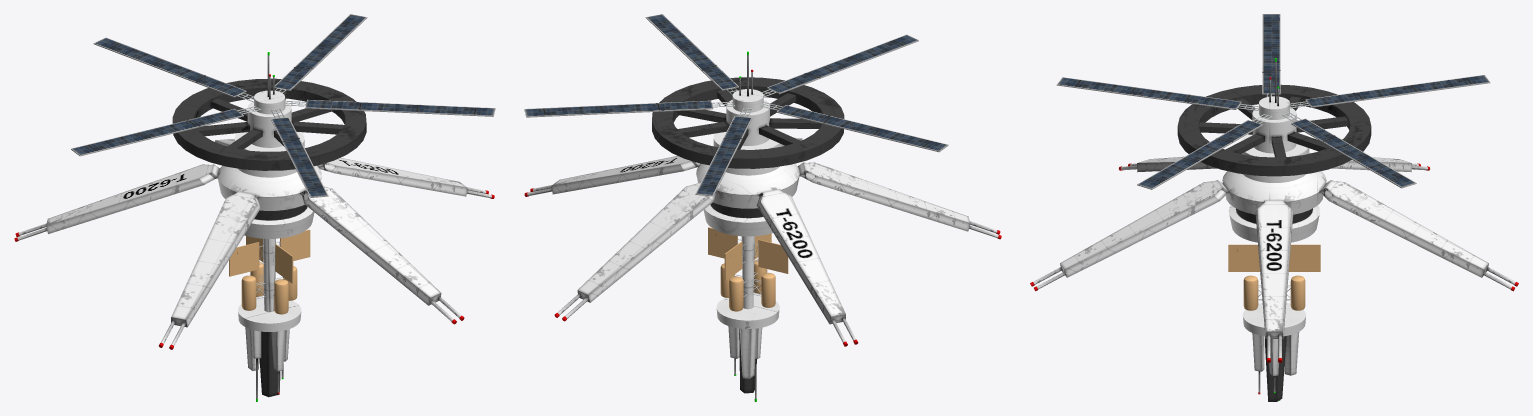
File: Estacion.obj
3 renders of one model, left to right at view 1: azimuth 30°, elevation 25°; view 2: azimuth 150°, elevation 25°; view 3: azimuth 270°, elevation 25°, orthographic.
Parts seen in each view (by area): view 1: Space_Station; view 2: Space_Station; view 3: Space_Station.
Boxes of the visible parts, left/top/right/bottom form: Space_Station: left=14, top=14, right=495, bottom=401; Space_Station: left=524, top=14, right=1001, bottom=401; Space_Station: left=1030, top=14, right=1518, bottom=401.
Bounding box in the file's own units: 9.21 × 7.34 × 9.38.
Materials: 1 (1 with a texture image).
